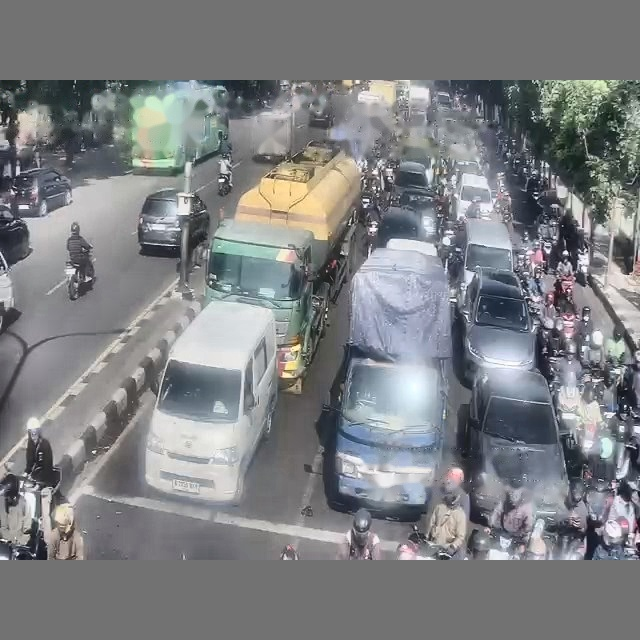Bis: (130, 81, 228, 172)
Mobil: (462, 369, 567, 519), (456, 269, 535, 378), (12, 168, 72, 216), (138, 188, 181, 252), (375, 207, 425, 247), (399, 189, 436, 242), (0, 204, 30, 264), (392, 161, 430, 195), (0, 251, 15, 331), (308, 97, 334, 127), (400, 145, 432, 169)
Motor: (408, 524, 451, 559), (65, 252, 94, 300), (576, 247, 589, 286), (218, 174, 231, 197)
Truk: (205, 142, 359, 393), (323, 248, 452, 511), (251, 109, 294, 162)
